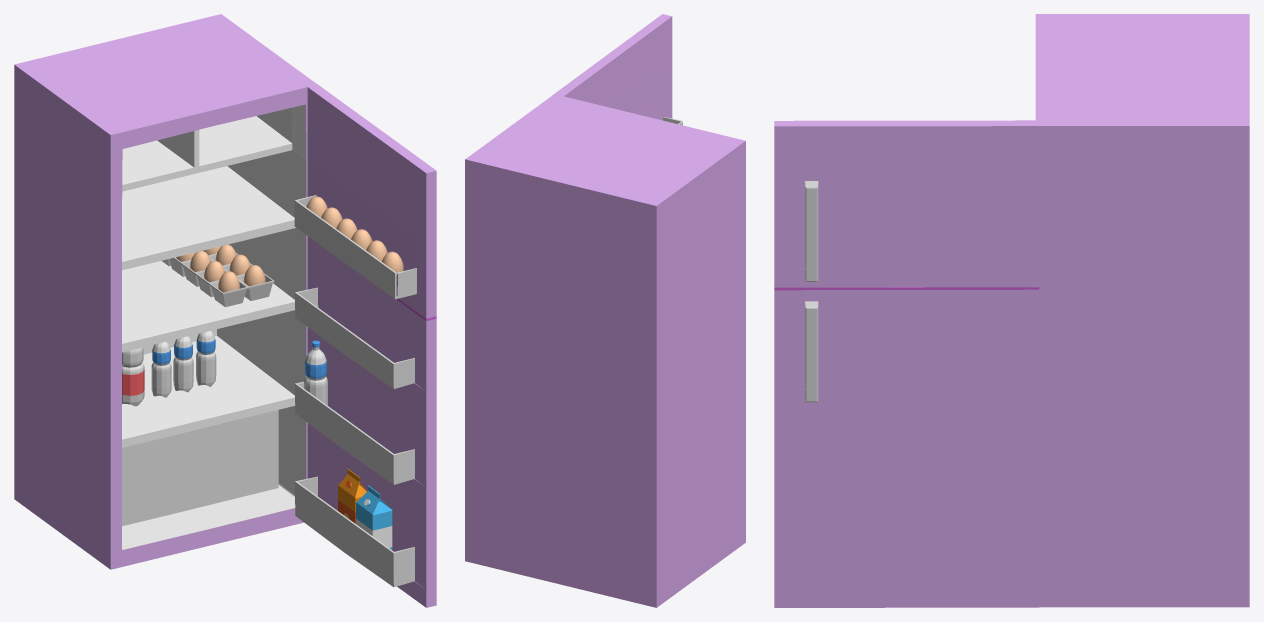
File: refrigerator-open.fbx
3 views of the same model, side by side, from view 1: azimuth 30°, elevation 25°; view 2: azimuth 150°, elevation 25°; view 3: azimuth 270°, elevation 25° (orthographic). The views are drawn at different scales.
Visible parts, largest first — view 1: body.001, door below.001, upper door.001, Cube, Cube.008, Cube.001, Cube.002, Cube.009, Plane, Cylinder, Cylinder.001, Cylinder.004 (+5 smaller); view 2: body.001, upper door.001; view 3: body.001, door below.001, upper door.001.
Part boxes in pixels (x1,y1,x2,y2): body.001: (14,14,316,569); door below.001: (294,236,436,607); upper door.001: (294,83,436,318); Cube: (122,410,278,526); Cube.008: (122,166,295,270); Cube.001: (122,336,295,447); Cube.002: (122,261,295,352); Cube.009: (122,116,292,191); Plane: (161,253,274,307); Cylinder: (356,485,392,549); Cylinder.001: (122,347,144,406); Cylinder.004: (304,340,327,405); body.001: (465,94,745,607); upper door.001: (553,14,682,125); body.001: (1035,14,1249,607); door below.001: (774,287,1039,607); upper door.001: (774,120,1039,287).
Bounding box in the file's own units: 573 × 1086 × 972.
26 materials, 1 textured.
